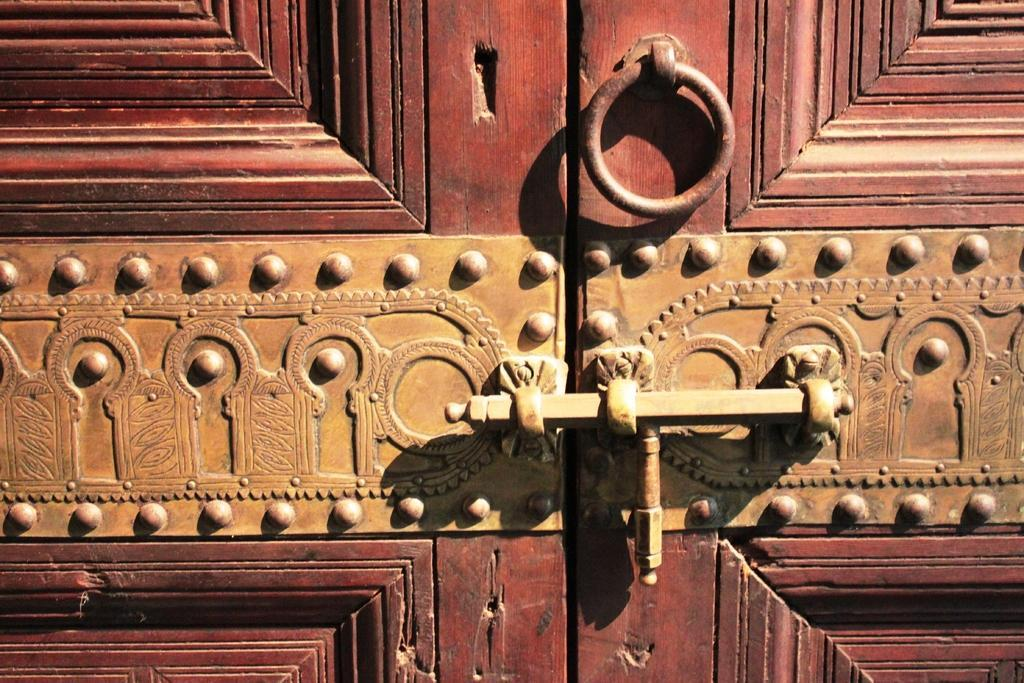door: (6, 5, 550, 672), (583, 4, 1024, 680)
handle: (562, 51, 744, 236)
